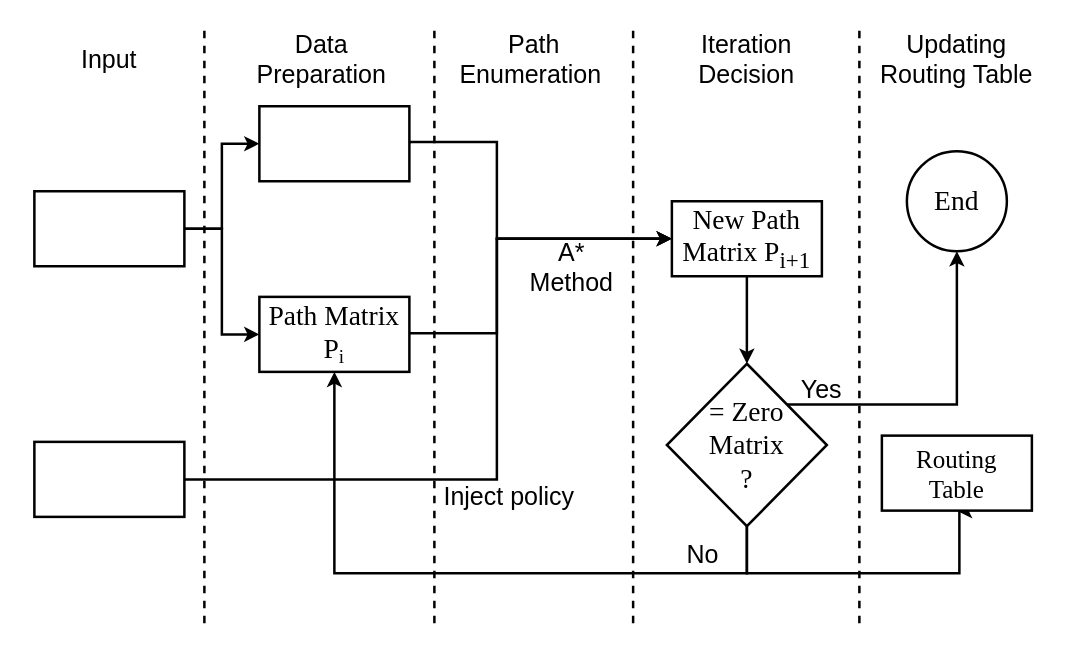
Some shapes in this 1078 by 646 pixel diagram are drawn without their labels. The shapes that lost their labels are listed below. From the top down, each one's centre as x and y in pixels, then its label:
At [334,143]: "Link Matrix L".
At [108,228]: "Connection Matrix".
At [108,479]: "Relationship Matrix".
